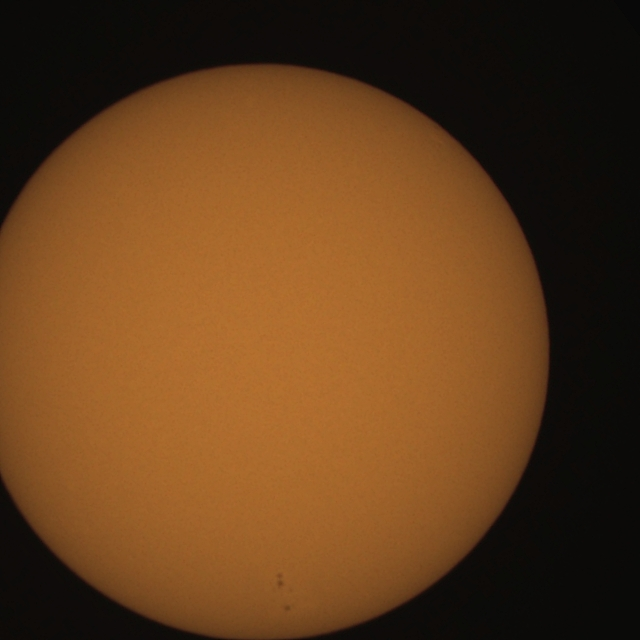sunspot: (274, 571, 286, 590), (282, 603, 292, 613)
